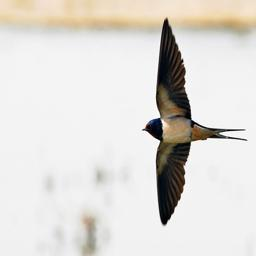Swallow: (142, 15, 249, 231)
